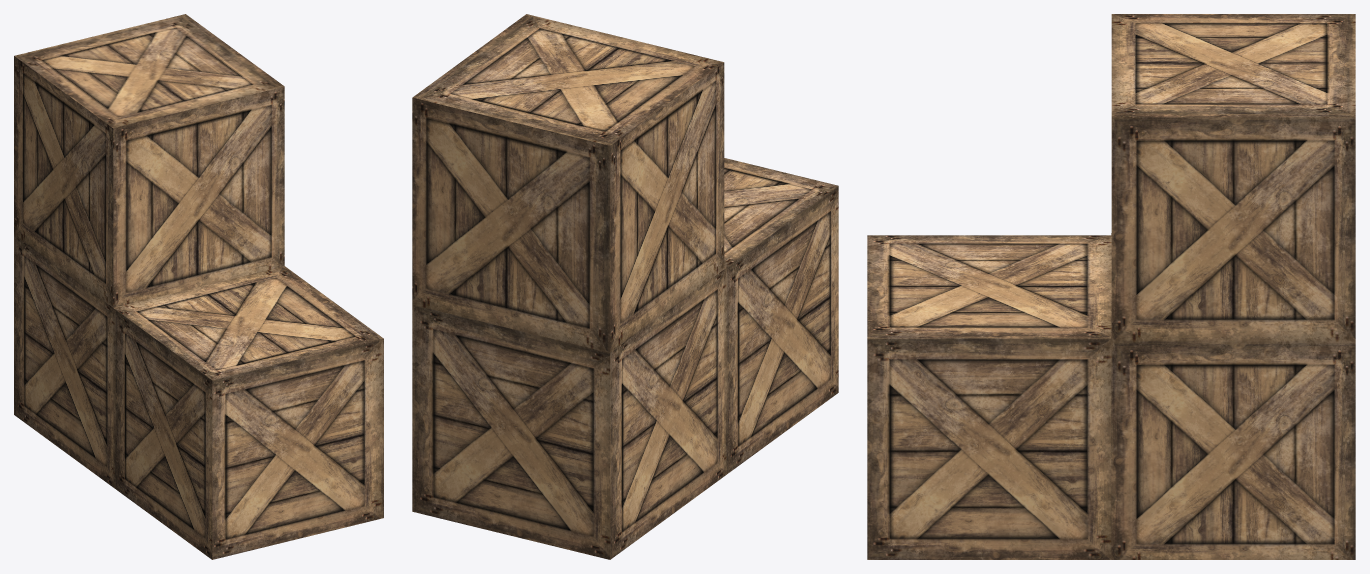
File: LCrate.fbx
3 views of the same model, side by side, from view 1: azimuth 30°, elevation 25°; view 2: azimuth 150°, elevation 25°; view 3: azimuth 270°, elevation 25° (orthographic). The views are drawn at different scales.
Visible parts, largest first — view 1: Cube; view 2: Cube; view 3: Cube.
Part boxes in pixels (<box>): Cube: <box>14,14,383,559</box>; Cube: <box>412,14,838,559</box>; Cube: <box>867,14,1355,559</box>.
Size of the model in its own units: 200 by 400 by 400.
1 material, 1 textured.
